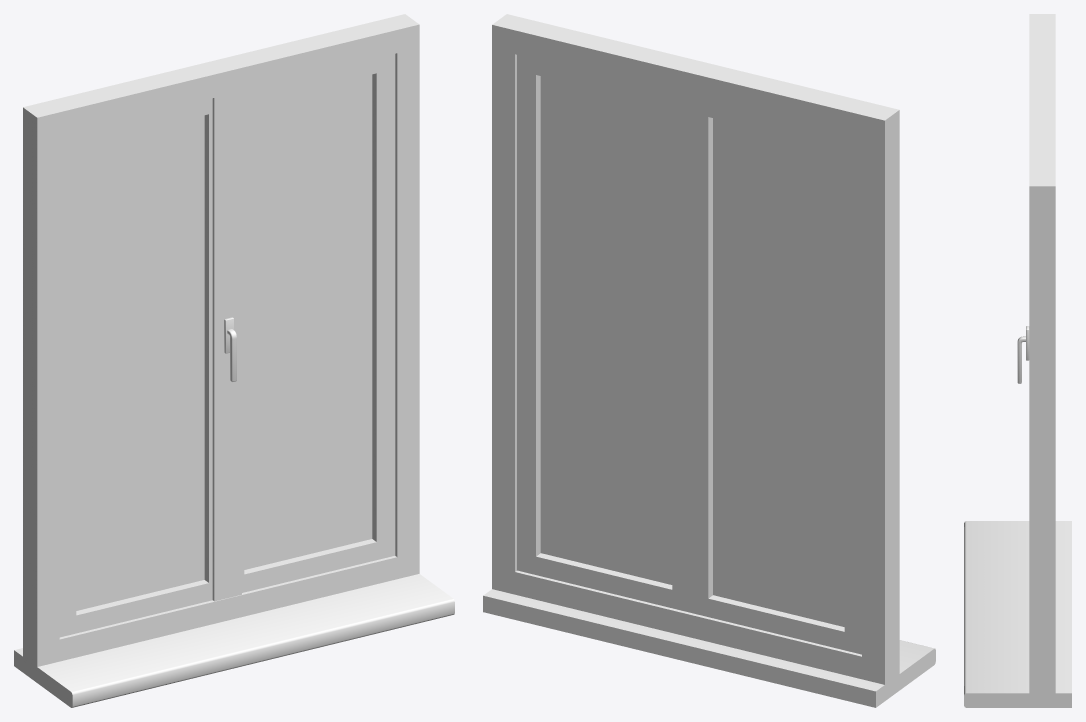
File: windowbath.dae
3 views of the same model, side by side, from view 1: azimuth 30°, elevation 25°; view 2: azimuth 150°, elevation 25°; view 3: azimuth 270°, elevation 25° (orthographic). The views are drawn at different scales.
Visible parts, largest first — view 1: objMesh; view 2: objMesh; view 3: objMesh.
Part boxes in pixels (x1,y1,x2,y2): objMesh: (14,14,454,707); objMesh: (483,14,935,707); objMesh: (964,14,1071,707).
Bounding box in the file's own units: 362 × 512 × 95.82.
Materials: 6 (6 with a texture image).
